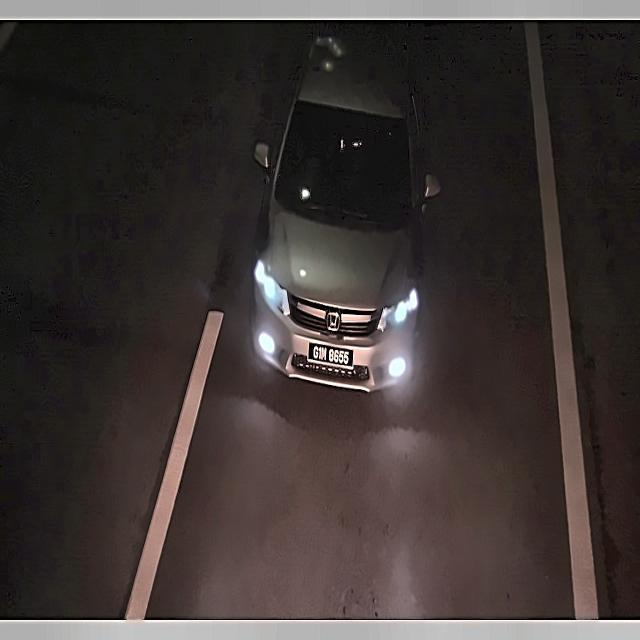car: (302, 334, 362, 376)
